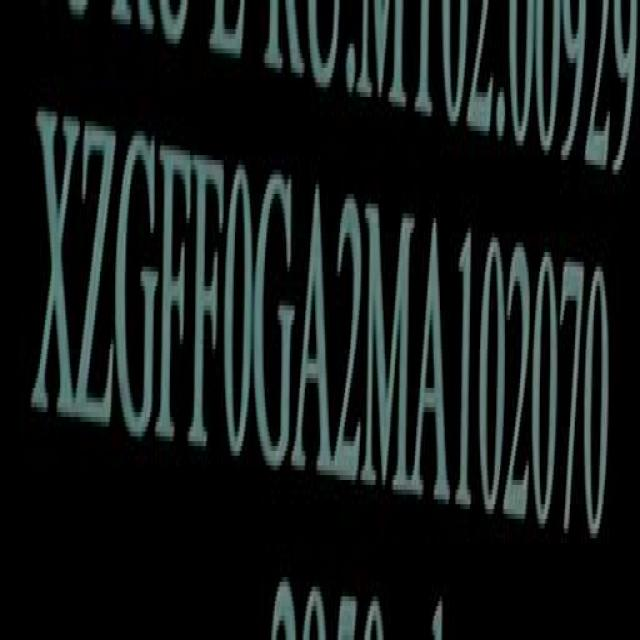0: (223, 168, 254, 466), (475, 228, 504, 521), (585, 268, 615, 546), (530, 243, 556, 531)
1: (453, 228, 475, 519)
2: (333, 189, 365, 493), (506, 240, 536, 530)
7: (555, 252, 582, 539)
A: (296, 177, 333, 481), (413, 211, 450, 509)
F: (160, 140, 193, 453), (192, 151, 225, 464)
G: (252, 167, 295, 473), (120, 130, 160, 447)
M: (368, 197, 417, 500)
X: (35, 104, 75, 431)
Z: (78, 118, 116, 439)
